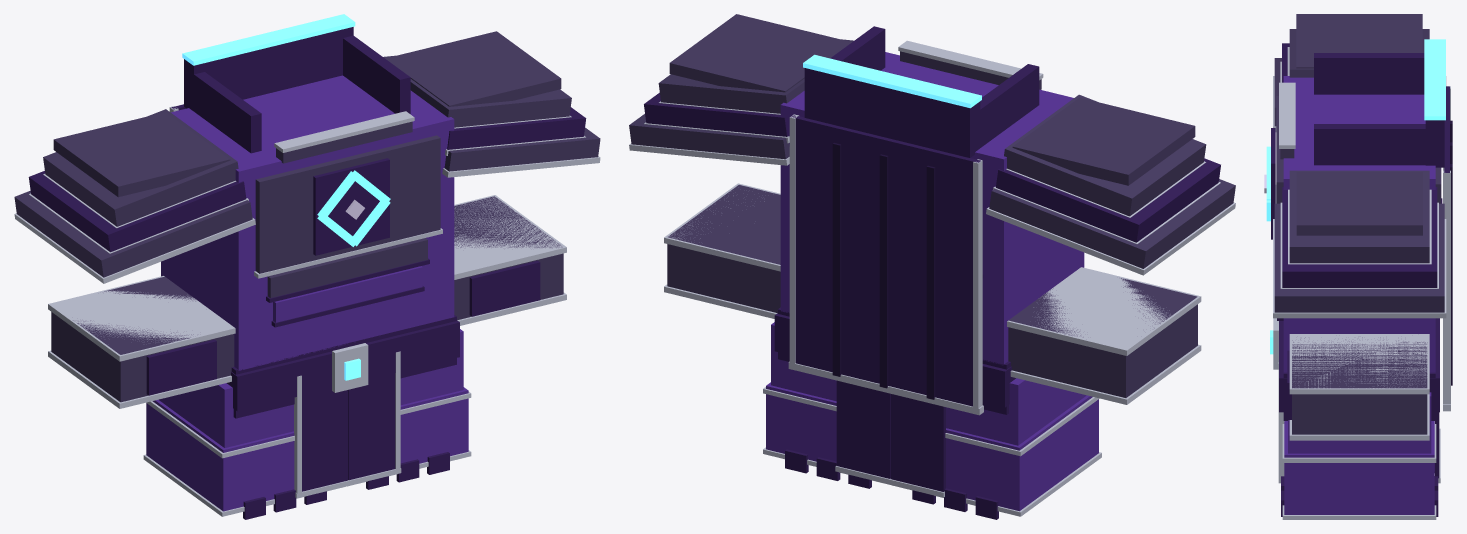
The picture shows the model from 3 angles, left to right: view 1: azimuth 30°, elevation 25°; view 2: azimuth 150°, elevation 25°; view 3: azimuth 270°, elevation 25°; orthographic projection. The views are drawn at different scales.
Parts seen in each view (by area): view 1: phantom-shroud; view 2: phantom-shroud; view 3: phantom-shroud.
Boxes of the visible parts, x1,y1,x2,y2 form: phantom-shroud: (14, 14, 600, 519); phantom-shroud: (629, 14, 1235, 519); phantom-shroud: (1264, 14, 1452, 519).
Size of the model in its own units: 1.27 by 0.974 by 0.425.
